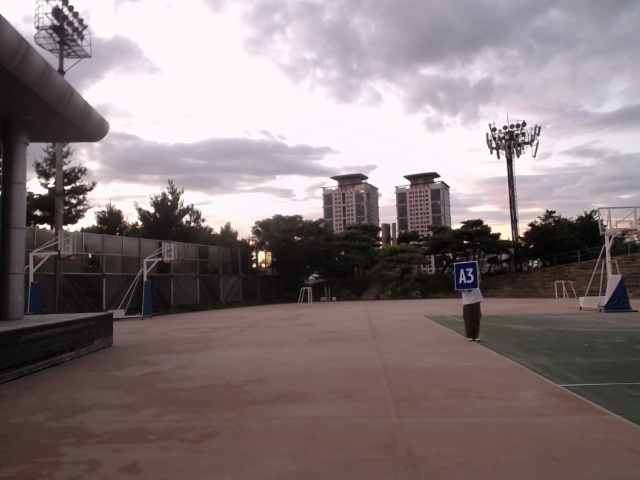delivery_a3: (454, 263, 478, 289)
